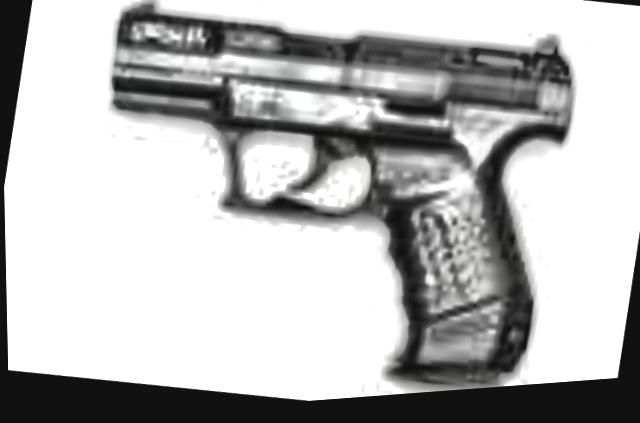pistol: (58, 0, 585, 420)
